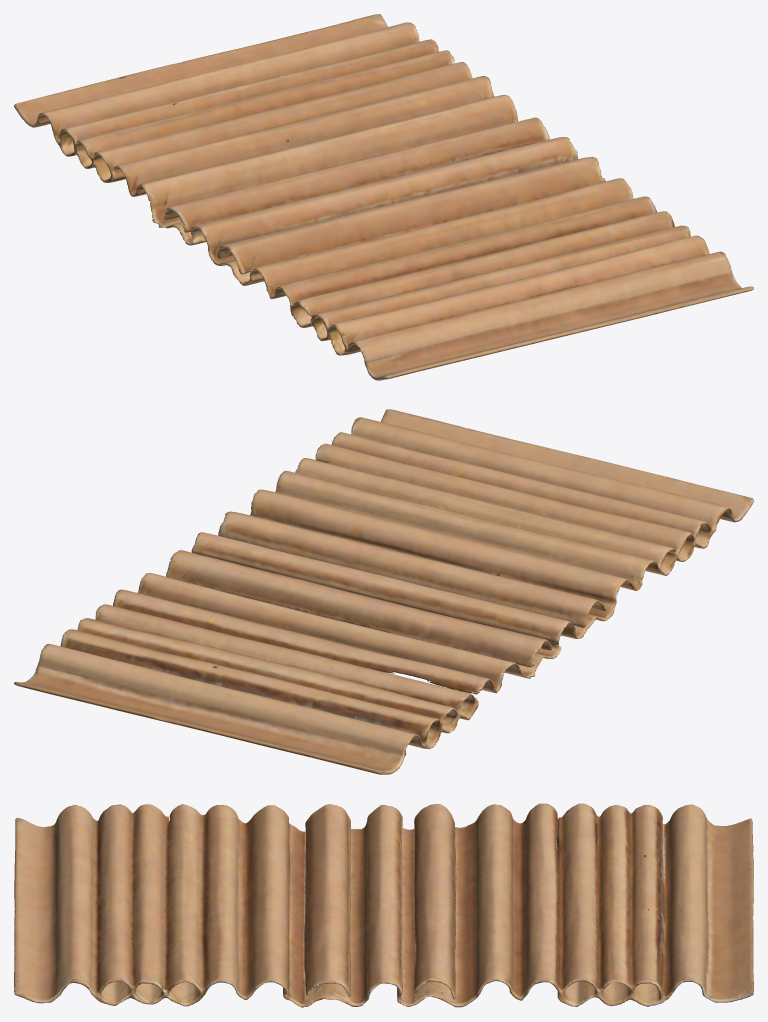
File: Corrugated_Board_Diag_1225043316_texture.fbx
3 views of the same model, one above another, from view 1: azimuth 30°, elevation 25°; view 2: azimuth 150°, elevation 25°; view 3: azimuth 270°, elevation 25° (orthographic).
Parts seen in each view (by area): view 1: Mesh1_Mesh1.007; view 2: Mesh1_Mesh1.007; view 3: Mesh1_Mesh1.007.
Part boxes in pixels (bbox=[...]): Mesh1_Mesh1.007: bbox=[14, 14, 753, 380]; Mesh1_Mesh1.007: bbox=[14, 409, 753, 774]; Mesh1_Mesh1.007: bbox=[14, 803, 753, 1007].
Size of the model in its own units: 116 by 9.02 by 200.
1 material, 1 textured.
